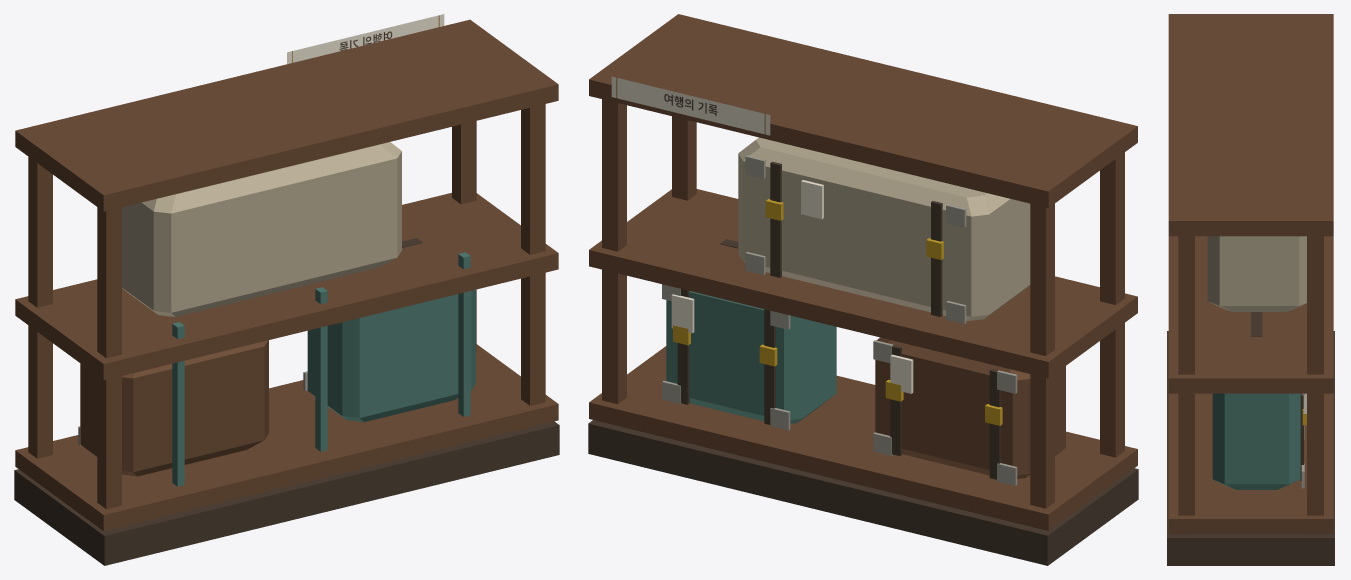
File: N07_Travel_Luggage_Rack.fbx
The picture shows the model from 3 angles, left to right: view 1: azimuth 30°, elevation 25°; view 2: azimuth 150°, elevation 25°; view 3: azimuth 270°, elevation 25°; orthographic projection. The views are drawn at different scales.
Parts seen in each view (by area): view 1: Structure, Suitcase_03, Suitcase_01, Suitcase_02; view 2: Structure, Suitcase_03, Suitcase_02, Suitcase_01; view 3: Structure, Suitcase_02, Suitcase_03.
Boxes of the visible parts, x1,y1,x2,y2 form: Structure: (14, 14, 559, 565); Suitcase_03: (122, 142, 401, 316); Suitcase_01: (78, 340, 268, 476); Suitcase_02: (303, 238, 475, 422); Structure: (588, 14, 1138, 565); Suitcase_03: (738, 137, 1030, 324); Suitcase_02: (662, 239, 836, 430); Suitcase_01: (873, 337, 1065, 485); Structure: (1167, 14, 1334, 565); Suitcase_02: (1212, 312, 1306, 489); Suitcase_03: (1207, 236, 1306, 311).
Size of the model in its own units: 3.5 by 2.8 by 1.21.
8 materials, 1 textured.
